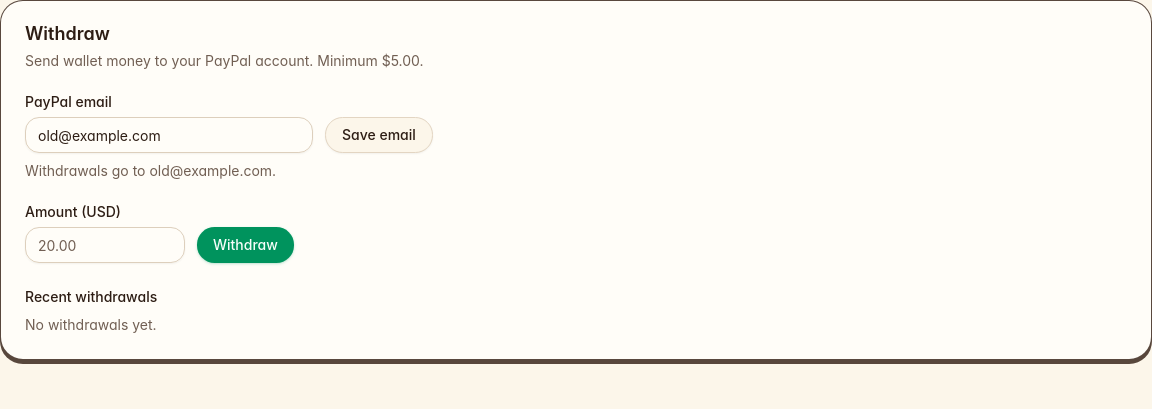
Scenario: WithdrawCard › shows the api's message when the email can't change
This screenshot has width=1152, height=409.
Replace the text in the field labelled "PayPal email" with "new@example.com": (169, 135) [25,117,313,153]
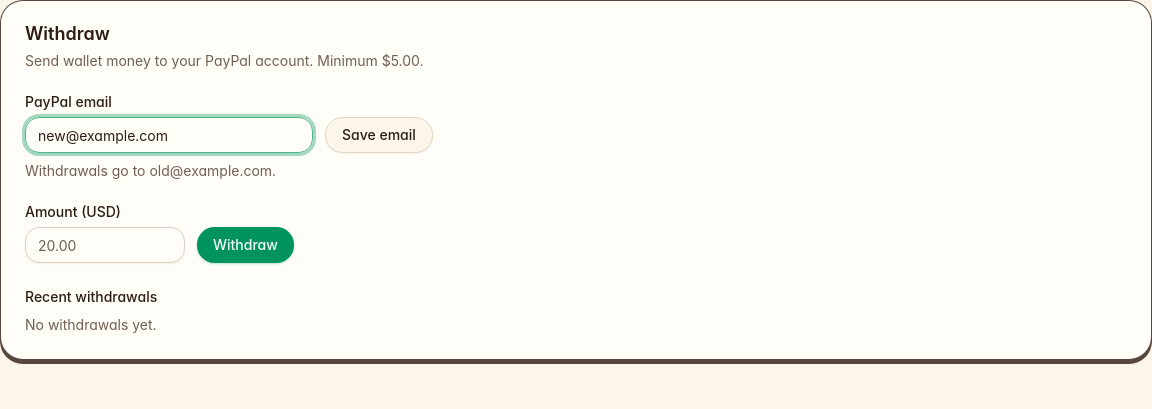
Click the button "Save email": (379, 135) [325,117,433,153]
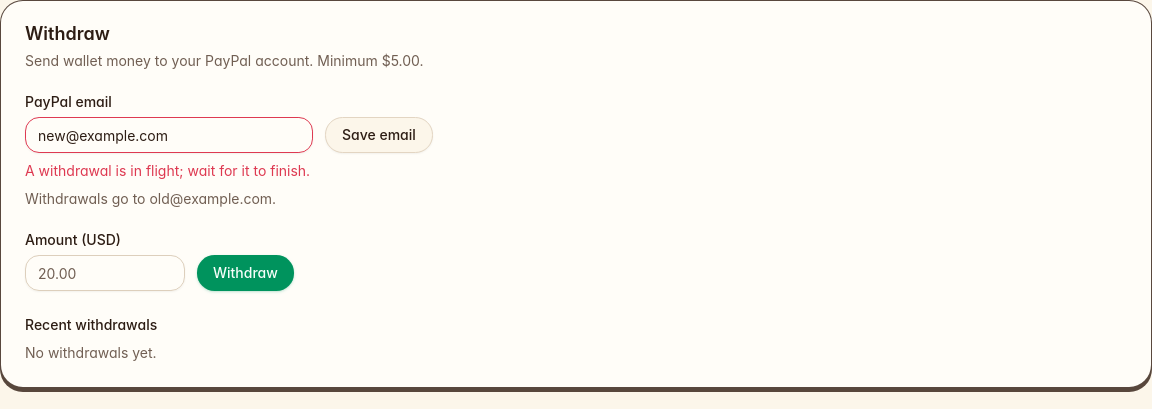
expect the text with test id "saved-email" shows "old@example.com": met, box [25,190,276,207]
expect the text "A withdrawal is in flight; wait for it to finish." is shown: met, box [25,162,310,179]
